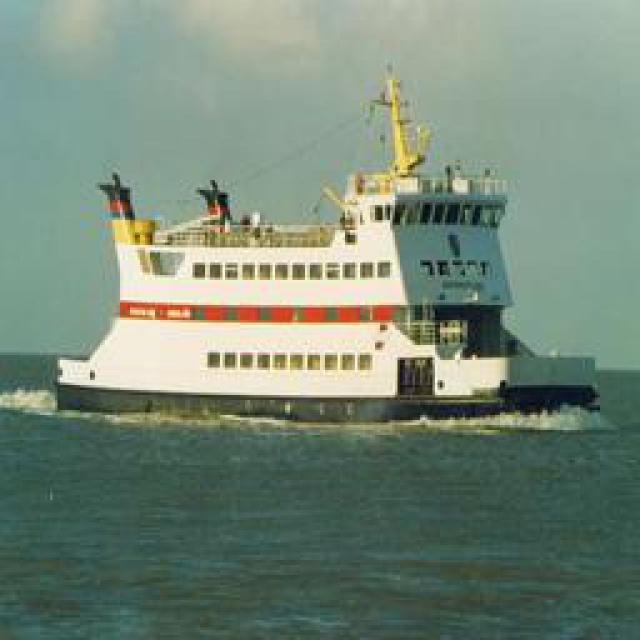Ship: (45, 70, 615, 408)
